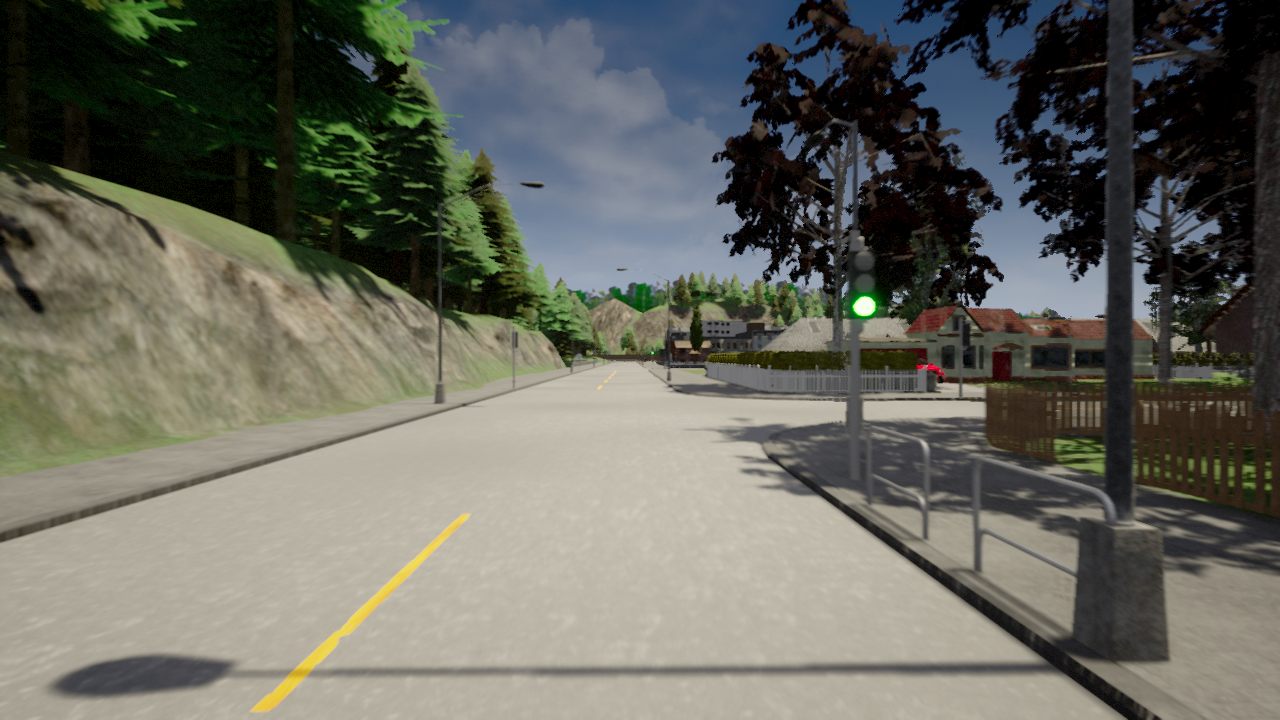green: (847, 249, 879, 317)
